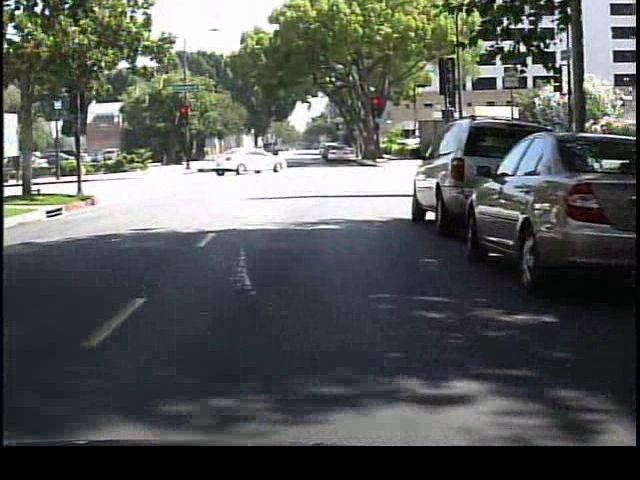person: (271, 140, 286, 171)
